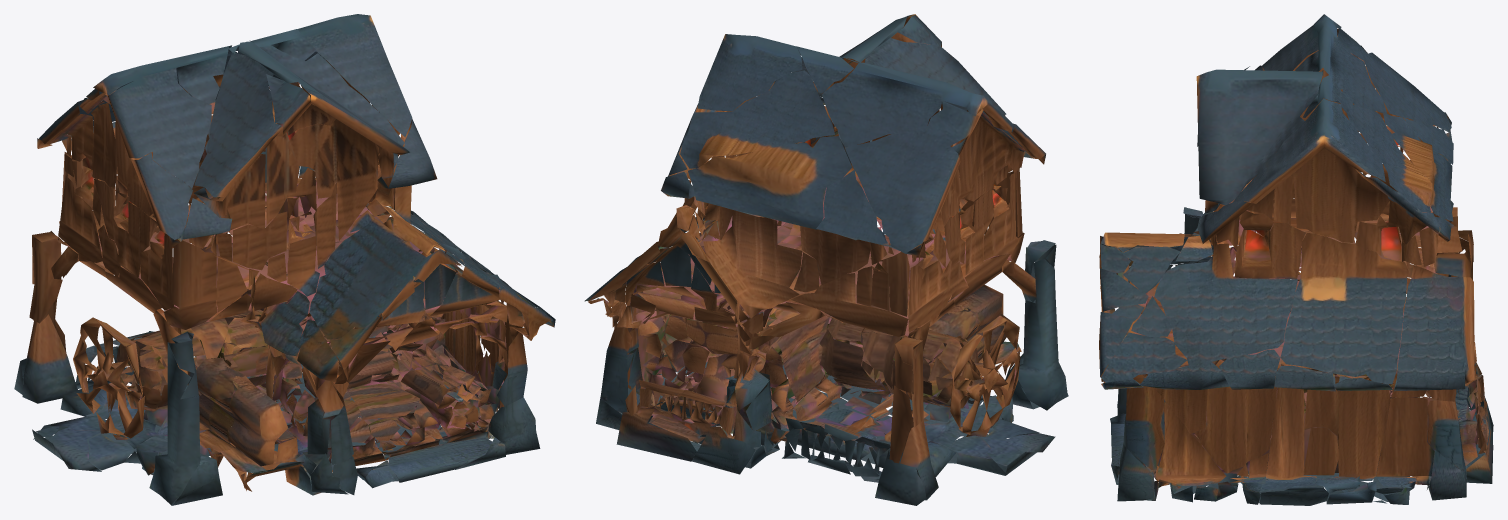
The model's file is mesh_sawmill_a.glb.
3 renders of one model, left to right at view 1: azimuth 30°, elevation 25°; view 2: azimuth 150°, elevation 25°; view 3: azimuth 270°, elevation 25°, orthographic. The views are drawn at different scales.
Parts seen in each view (by area): view 1: mesh_sawmill_a__mesh_sawmill_a__Mesh_0; view 2: mesh_sawmill_a__mesh_sawmill_a__Mesh_0; view 3: mesh_sawmill_a__mesh_sawmill_a__Mesh_0.
Boxes of the visible parts, x1=… form: mesh_sawmill_a__mesh_sawmill_a__Mesh_0: x1=14, y1=14, x2=555, y2=505; mesh_sawmill_a__mesh_sawmill_a__Mesh_0: x1=584, y1=14, x2=1068, y2=505; mesh_sawmill_a__mesh_sawmill_a__Mesh_0: x1=1099, y1=14, x2=1493, y2=505.
Bounding box in the file's own units: 24 × 21.93 × 22.23.
1 material, 1 textured.
